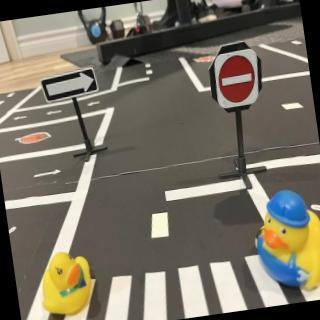duck_regular: (37, 249, 101, 320)
duck_specialty: (248, 186, 320, 293)
road_crosswalk: (50, 249, 292, 320)
road_oneway: (33, 168, 66, 183), (11, 112, 31, 123), (45, 108, 65, 119), (87, 99, 104, 109)
sign_noentry: (214, 50, 260, 110)
sign_oneway_right: (40, 68, 100, 104)
